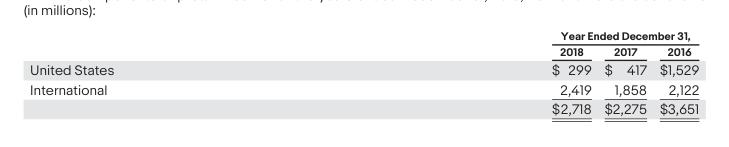table: (29, 29, 698, 115)
table column: (29, 29, 332, 115), (332, 29, 597, 115), (597, 29, 652, 115), (652, 29, 698, 115)
table column header: (29, 29, 698, 59)
table row: (29, 59, 698, 79), (29, 79, 698, 98), (29, 98, 698, 115), (29, 43, 698, 59), (29, 29, 698, 43)
table spanning cell: (332, 29, 698, 43)
